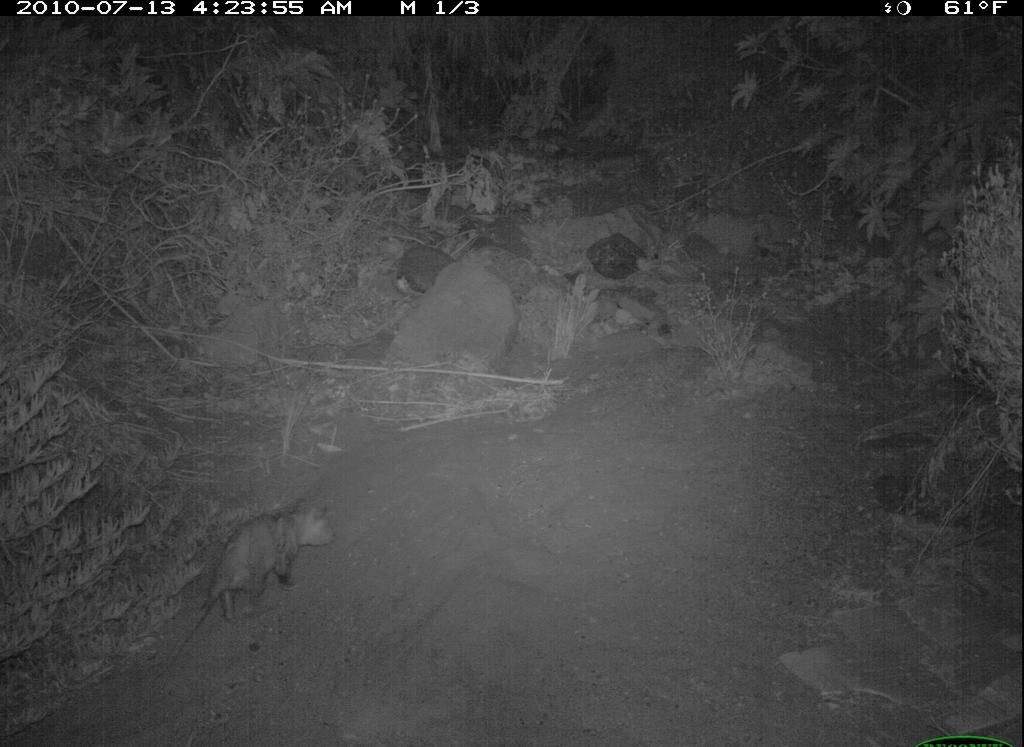opossum: (176, 497, 344, 643)
